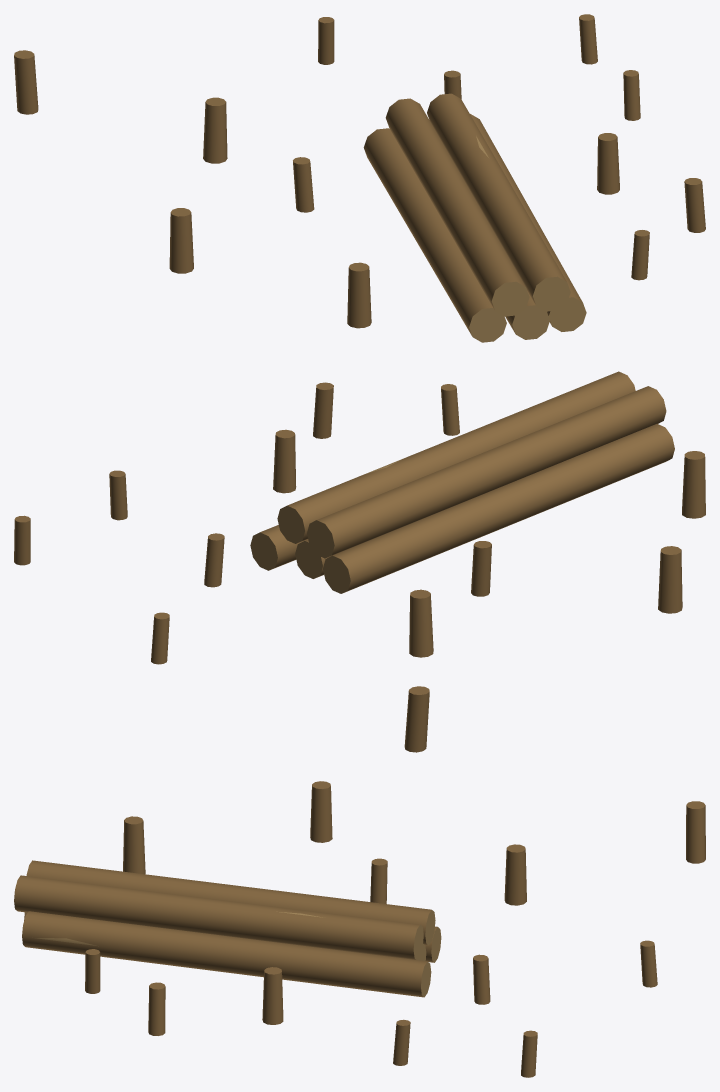
Rendered from Resource_Tree_Group_Cut.glb.
The picture shows the model from 3 angles, top to bottom: view 1: azimuth 30°, elevation 25°; view 2: azimuth 150°, elevation 25°; view 3: azimuth 270°, elevation 25°; orthographic projection. The views are drawn at different scales.
Parts seen in each view (by area): view 1: Resource_Tree_Group_Cut; view 2: Resource_Tree_Group_Cut; view 3: Resource_Tree_Group_Cut.
Part boxes in pixels (x1,y1,x2,y2): Resource_Tree_Group_Cut: (14, 14, 705, 342); Resource_Tree_Group_Cut: (14, 371, 705, 752); Resource_Tree_Group_Cut: (14, 781, 705, 1077).
Bounding box in the file's own units: 1.53 × 0.1701 × 1.84.
